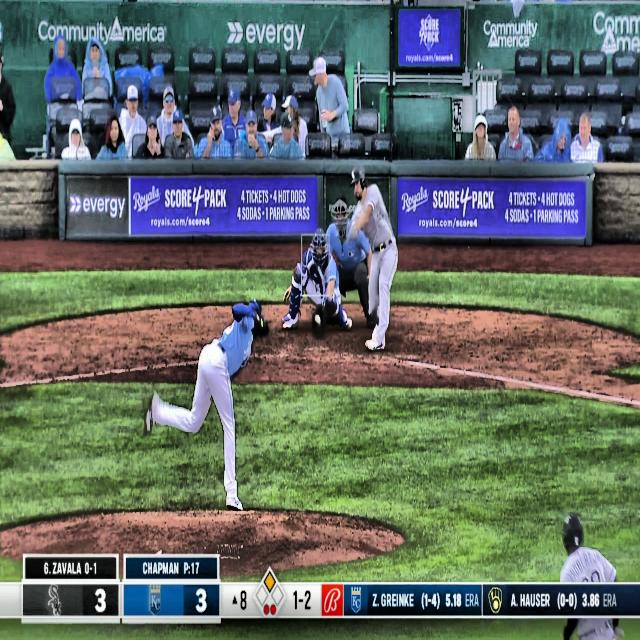baseball: (314, 312, 322, 329)
